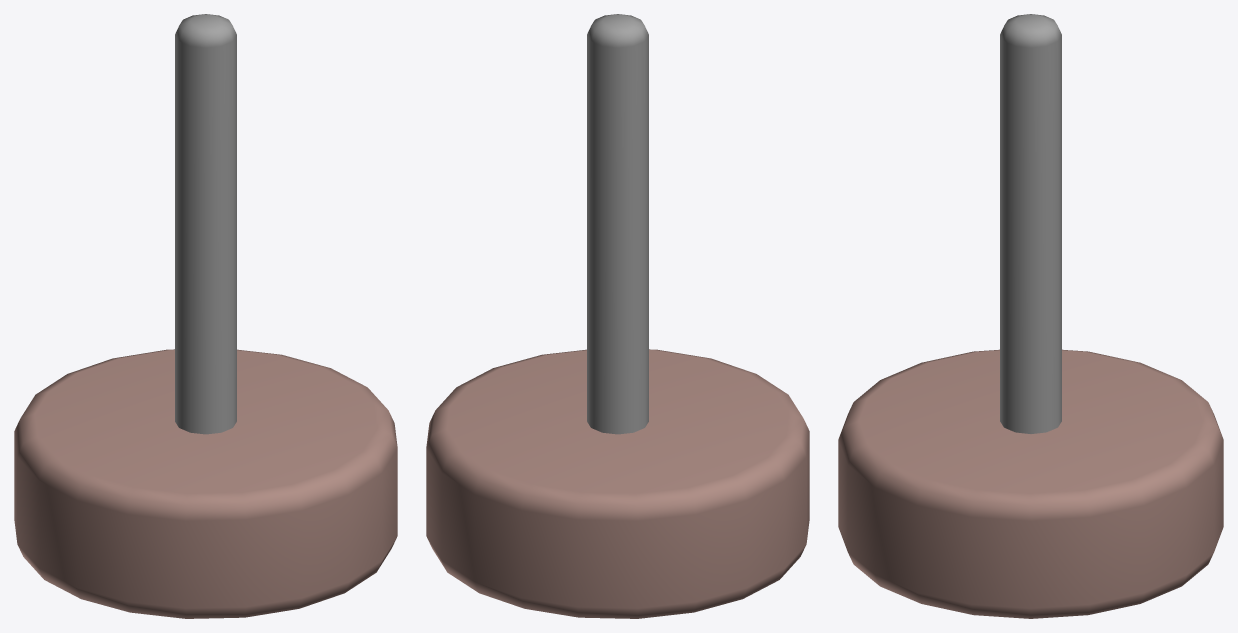
File: Public_19_Thread_Stand_1.glb
3 views of the same model, side by side, from view 1: azimuth 30°, elevation 25°; view 2: azimuth 150°, elevation 25°; view 3: azimuth 270°, elevation 25° (orthographic).
Parts seen in each view (by area): view 1: Public_19_Thread_Stand_1; view 2: Public_19_Thread_Stand_1; view 3: Public_19_Thread_Stand_1.
Part boxes in pixels (bbox=[...]): Public_19_Thread_Stand_1: bbox=[14, 14, 397, 618]; Public_19_Thread_Stand_1: bbox=[426, 14, 809, 618]; Public_19_Thread_Stand_1: bbox=[838, 14, 1223, 618].
Bounding box in the file's own units: 0.4035 × 0.6057 × 0.4035.
1 material, 1 textured.
